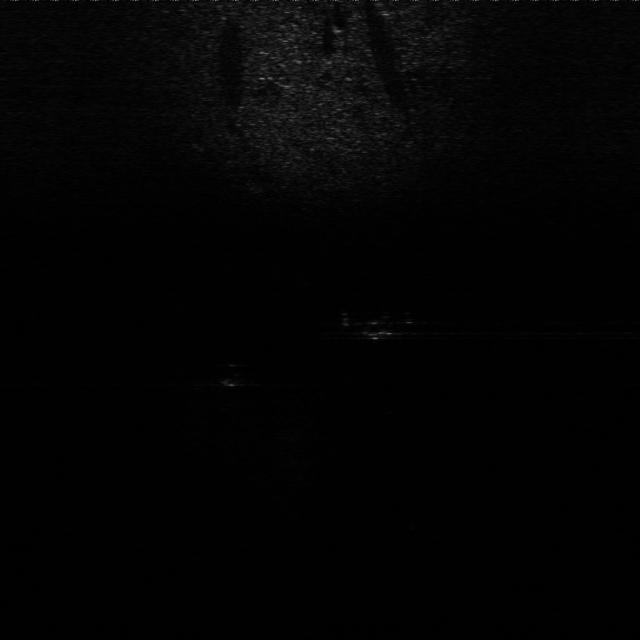ball: (213, 359, 253, 386)
human body: (339, 308, 428, 344)
